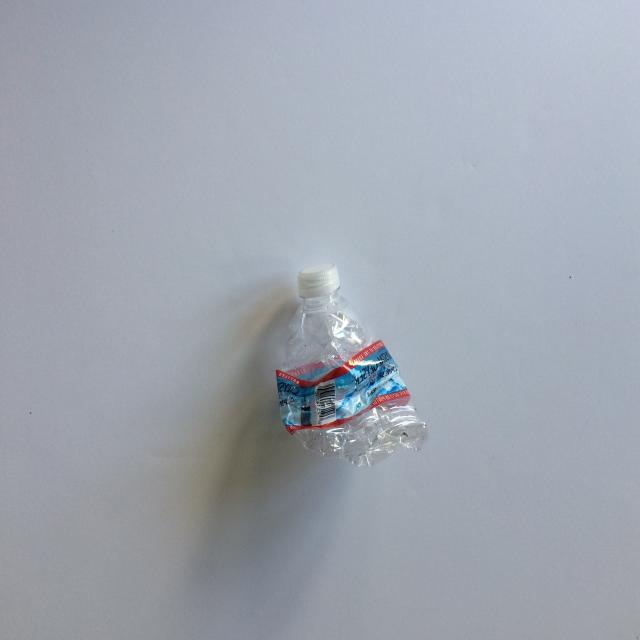plastic: (249, 233, 432, 484)
